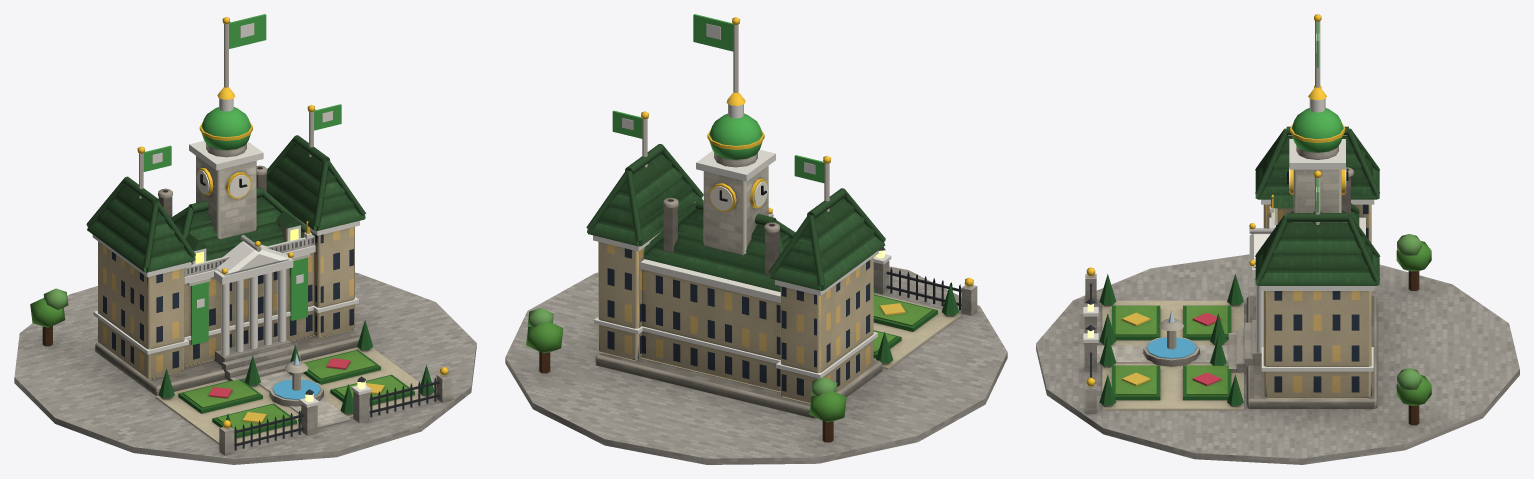
File: residence_dl5_green.glb
The picture shows the model from 3 angles, left to right: view 1: azimuth 30°, elevation 25°; view 2: azimuth 150°, elevation 25°; view 3: azimuth 270°, elevation 25°; orthographic projection. The views are drawn at different scales.
Visible parts, largest first — view 1: residence_dl5_green; view 2: residence_dl5_green; view 3: residence_dl5_green.
Boxes of the visible parts, x1,y1,x2,y2 form: residence_dl5_green: (14, 14, 476, 464); residence_dl5_green: (505, 14, 1007, 464); residence_dl5_green: (1036, 14, 1519, 464).
Size of the model in its own units: 1.71 by 1.36 by 1.71.
Materials: 3 (1 with a texture image).
